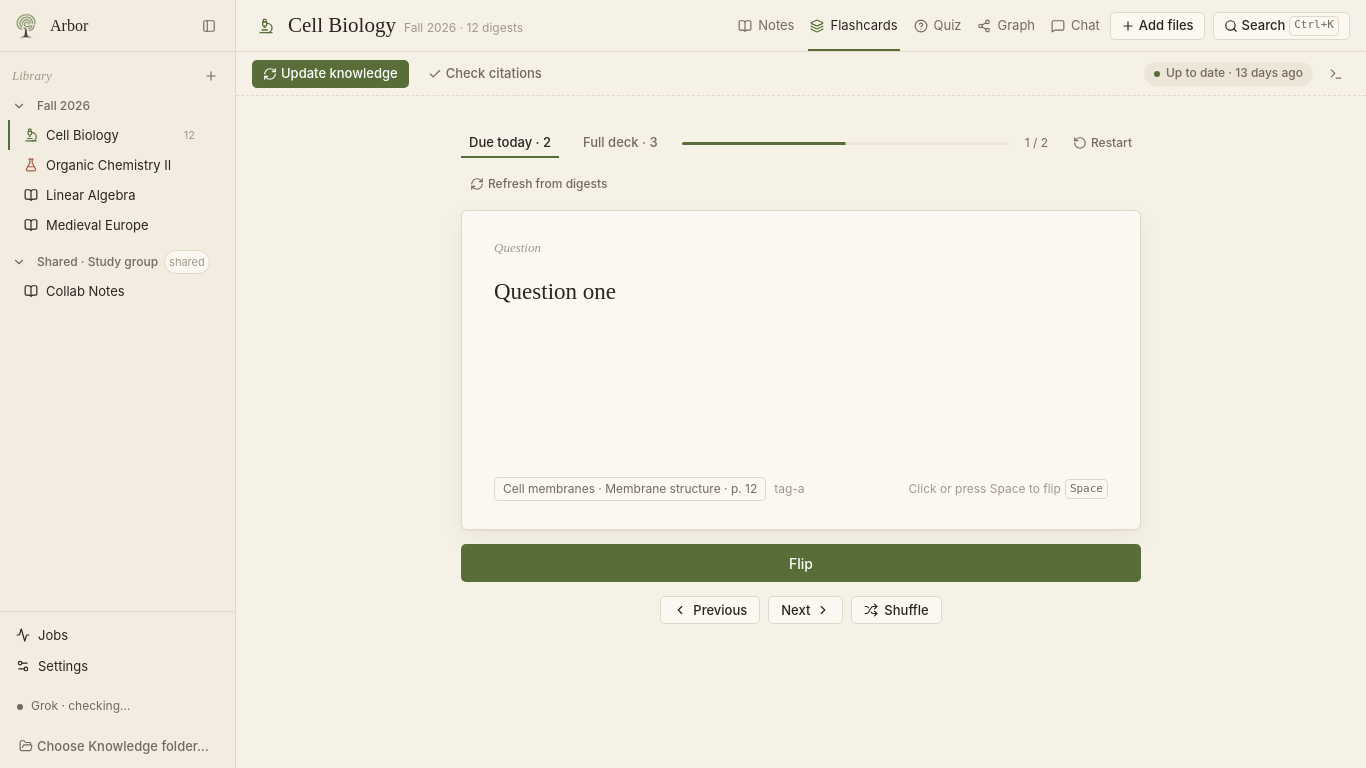
Test case: flashcards PR8 › due again requeues with unchanged due count
The width and height of the screenshot is (1366, 768).
Check: the tab "Due today · 2" is shown, box [461,128,559,158]
Click the button "Flip" at (801, 563), box [461,544,1141,582]
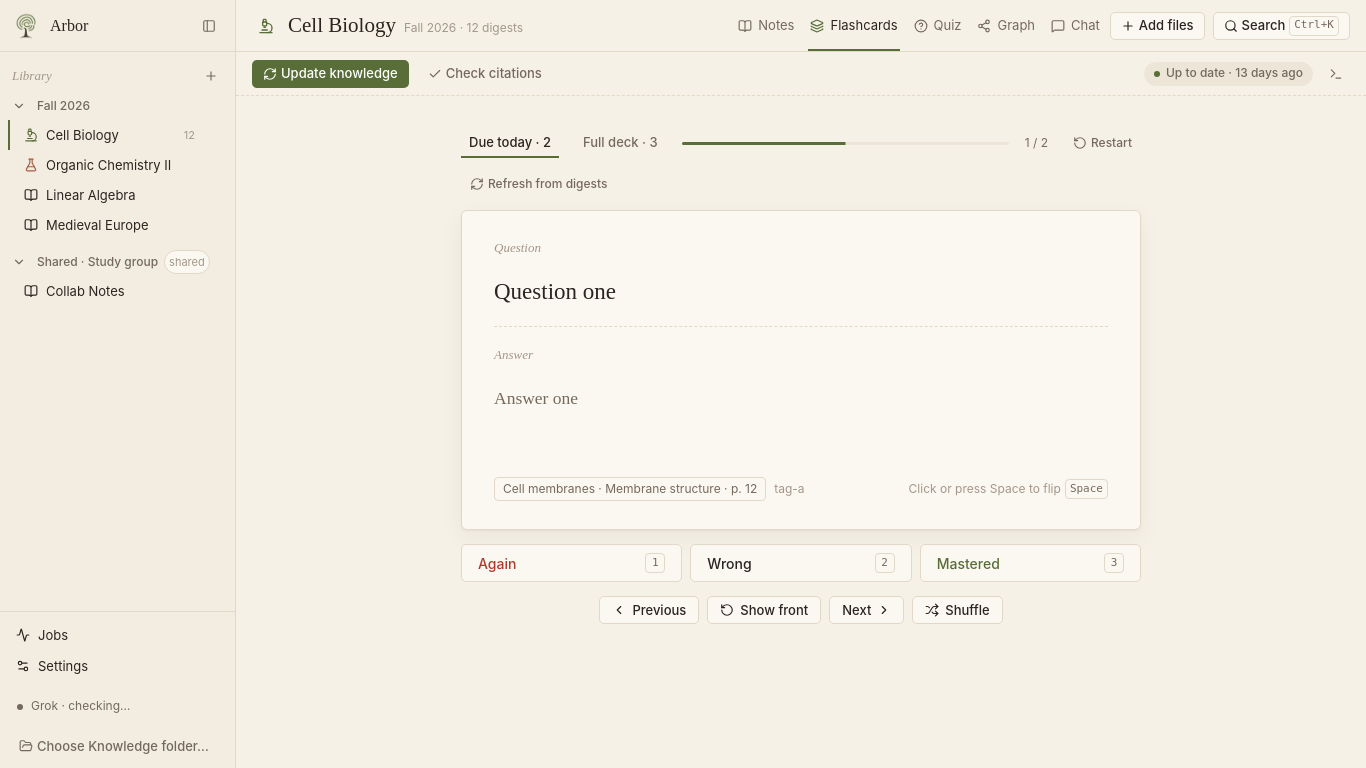
Click the button "Again 1" at (572, 563), box [461,544,682,582]
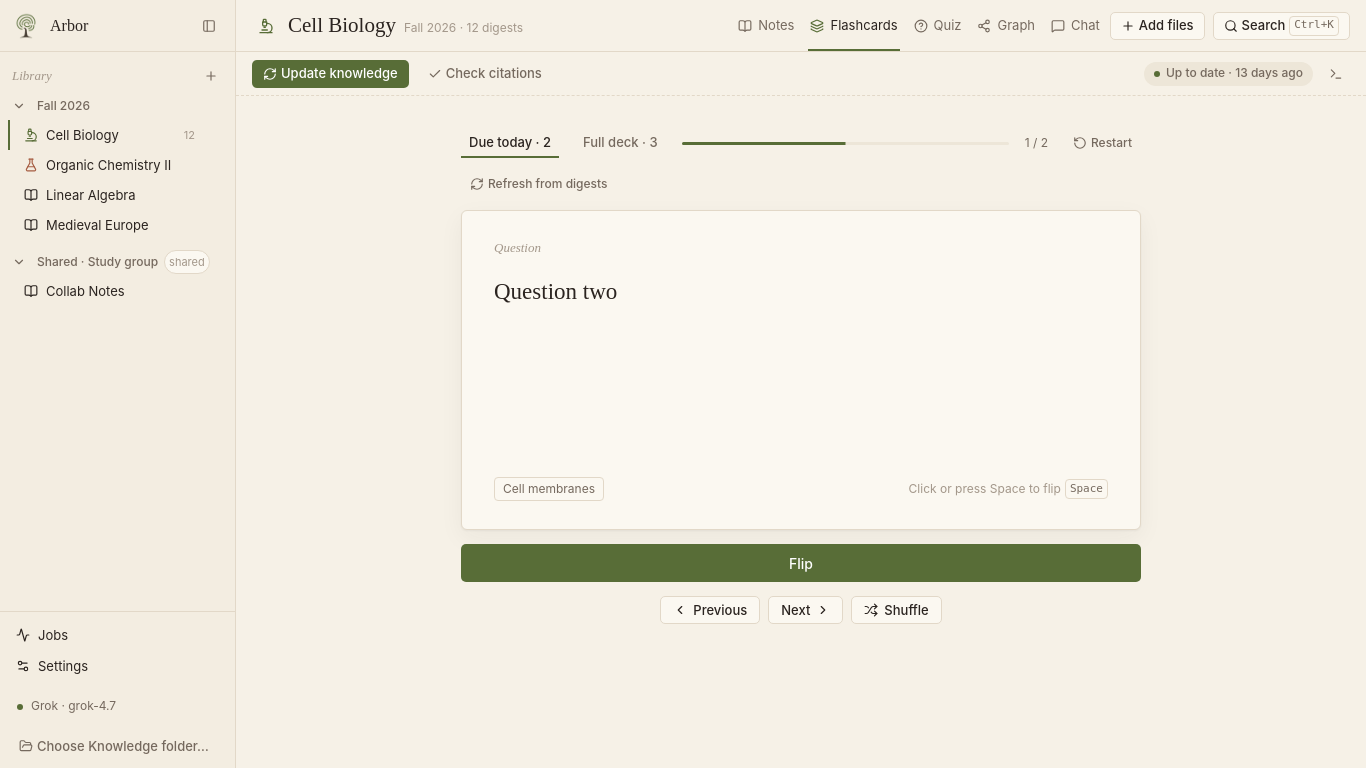
Check: the tab "Due today · 2" is shown, box [461,128,559,158]
Check: the text "Question two" is shown, box [494,279,617,304]
Click the button "Next" at (806, 610), box [768,596,843,624]
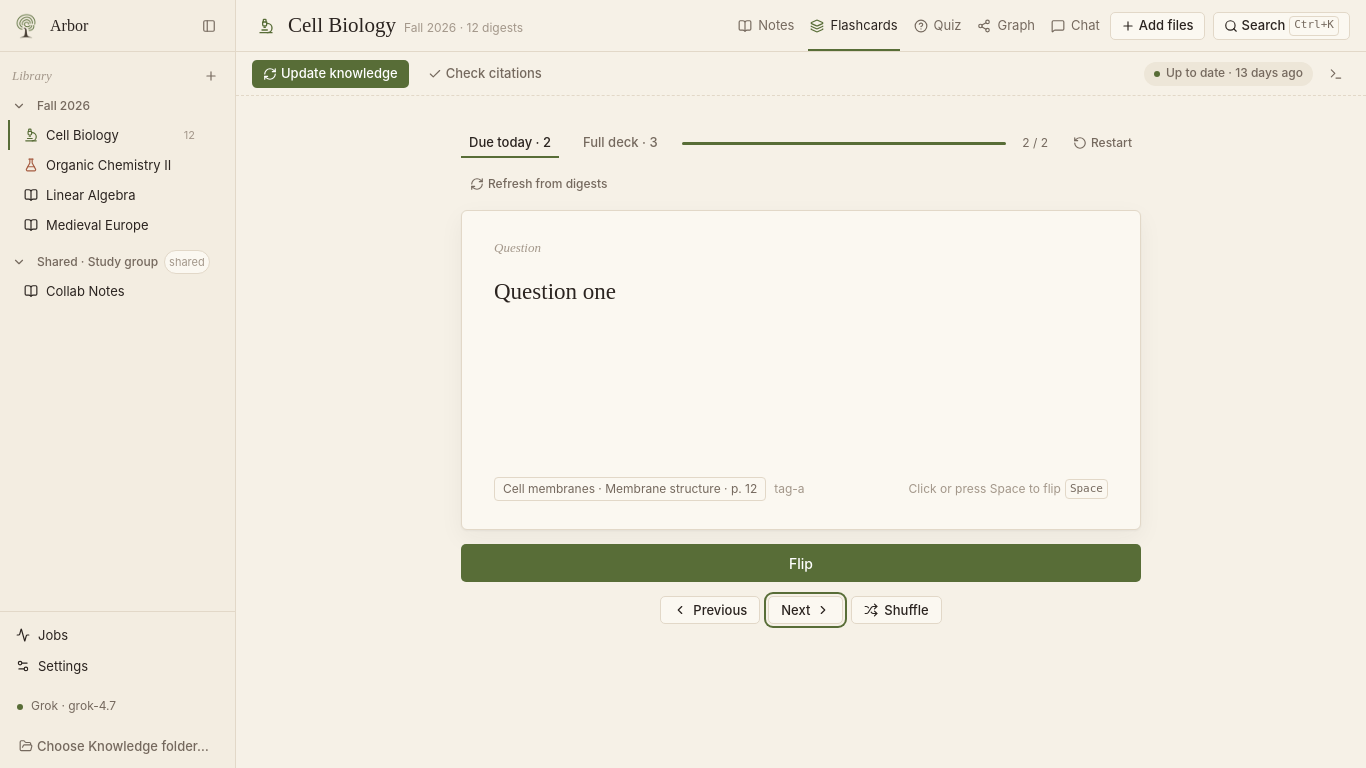
Check: the text "Question one" is shown, box [494,279,616,304]
